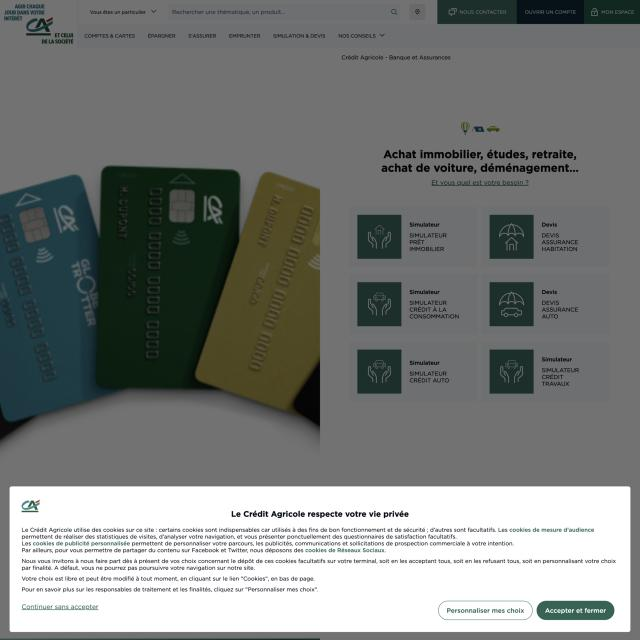logo: (18, 496, 43, 513)
